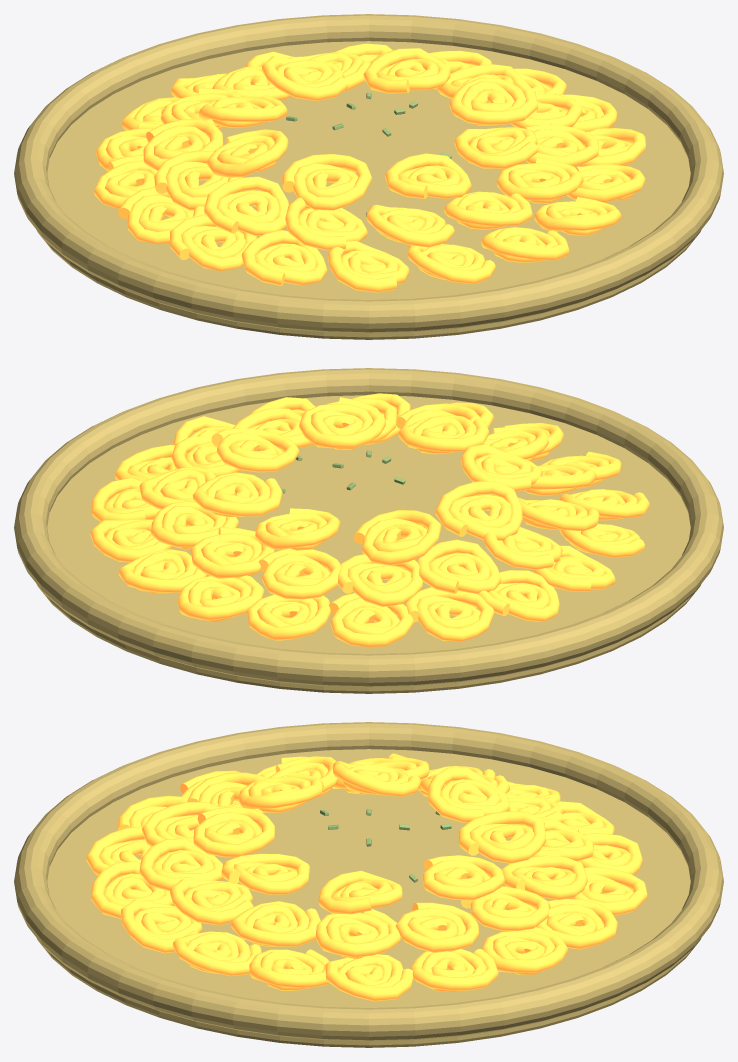
The model's file is jalebi_stack.glb.
3 views of the same model, one above another, from view 1: azimuth 30°, elevation 25°; view 2: azimuth 150°, elevation 25°; view 3: azimuth 270°, elevation 25° (orthographic).
Parts seen in each view (by area): view 1: jalebi_spiral_stack_coils, brass_thaal_base, brass_thaal_rim; view 2: jalebi_spiral_stack_coils, brass_thaal_rim, brass_thaal_base; view 3: jalebi_spiral_stack_coils, brass_thaal_base, brass_thaal_rim.
Part boxes in pixels (left/top/right/bottom): jalebi_spiral_stack_coils: left=94, top=43, right=645, bottom=292; brass_thaal_base: left=36, top=41, right=701, bottom=339; brass_thaal_rim: left=14, top=14, right=723, bottom=333; jalebi_spiral_stack_coils: left=90, top=393, right=649, bottom=646; brass_thaal_rim: left=14, top=368, right=723, bottom=687; brass_thaal_base: left=36, top=395, right=701, bottom=693; jalebi_spiral_stack_coils: left=86, top=753, right=647, bottom=1001; brass_thaal_base: left=36, top=749, right=701, bottom=1047; brass_thaal_rim: left=14, top=722, right=723, bottom=1041.
Size of the model in its own units: 1.2 by 0.1581 by 1.2.
